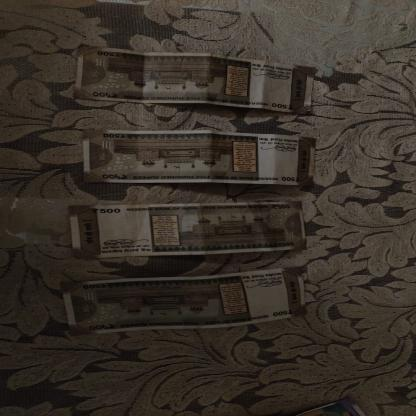New500Back: (58, 267, 308, 336), (72, 46, 317, 115), (83, 128, 318, 187), (69, 200, 307, 258)
